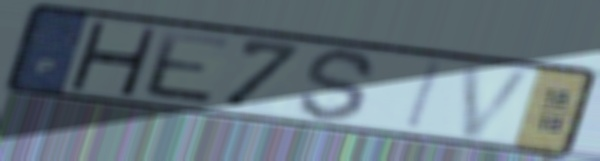7: (224, 35, 306, 111)
E: (141, 27, 237, 108)
H: (64, 18, 161, 99)
I: (401, 59, 449, 133)
S: (294, 46, 382, 124)
V: (456, 61, 540, 141)
